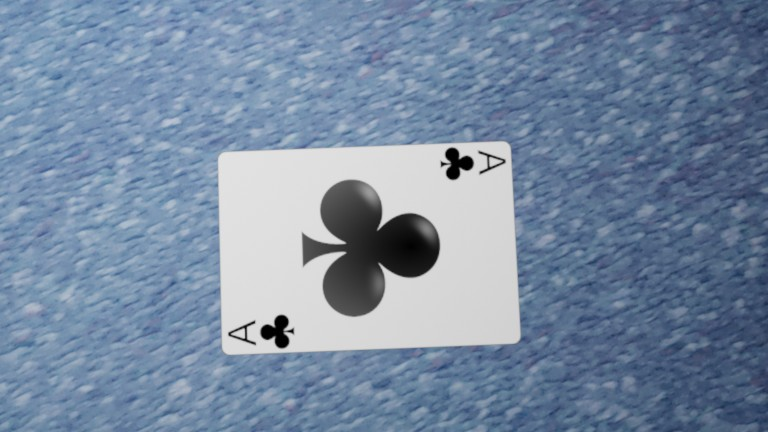ace_of_clubs: (175, 57, 203, 73), (91, 125, 119, 141)
